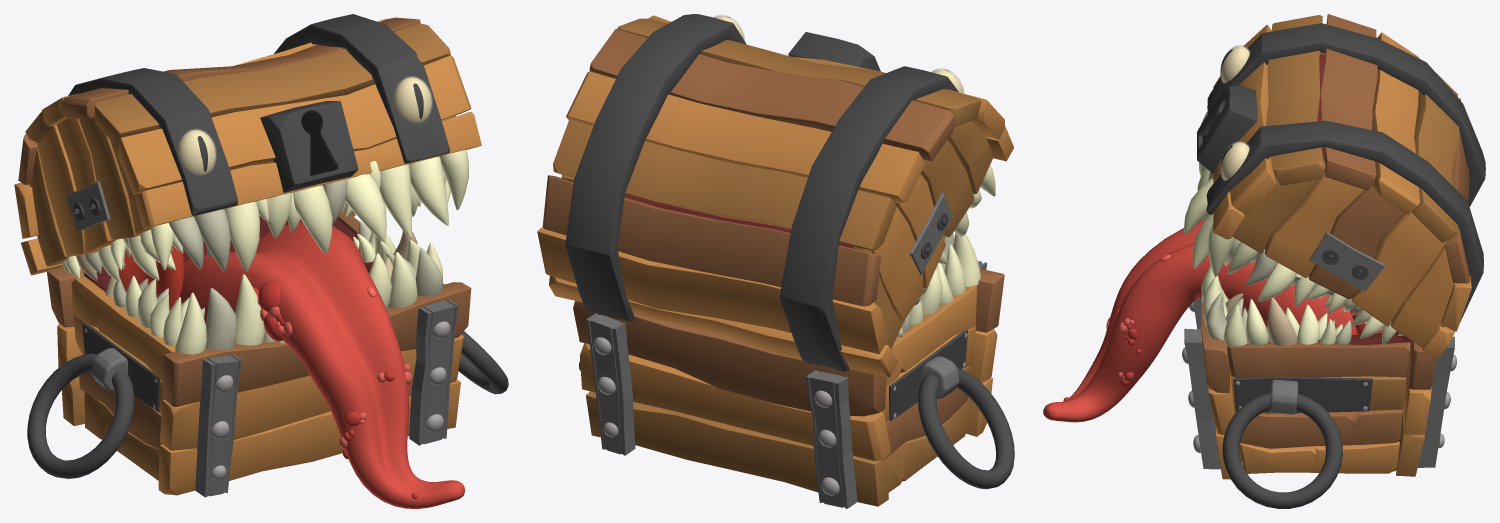
File: bauP02.glb
The picture shows the model from 3 angles, left to right: view 1: azimuth 30°, elevation 25°; view 2: azimuth 150°, elevation 25°; view 3: azimuth 270°, elevation 25°; orthographic projection. The views are drawn at different scales.
Visible parts, largest first — view 1: Cube.028, BezierCurve, Cube.133, Cube.023, Cube.008, Cube.040, Cube.004, Torus.001, Cube.055, Cube.046, Cube.003, Cube (+11 smaller); view 2: Cube.028, Cube.008, Cube.023, Cube.040, Cube.004, Torus.001, Cube.006, Cube.002, Cube.133, Cube.047, Cube.046, Cube.005 (+3 smaller); view 3: Cube.028, Cube.008, BezierCurve, Cube.023, Cube.133, Cube.040, Cube.004, Cube.034, Torus.001, Cube.046, Cube.047, Cube.003 (+9 smaller).
Boxes of the visible parts, x1=… form: Cube.028: x1=14, y1=18, x2=481, y2=495; BezierCurve: x1=179, y1=222, x2=464, y2=508; Cube.133: x1=61, y1=150, x2=468, y2=354; Cube.023: x1=25, y1=23, x2=456, y2=480; Cube.008: x1=18, y1=17, x2=471, y2=448; Cube.040: x1=274, y1=14, x2=449, y2=163; Cube.004: x1=68, y1=68, x2=237, y2=215; Torus.001: x1=27, y1=331, x2=508, y2=478; Cube.055: x1=84, y1=179, x2=443, y2=349; Cube.046: x1=260, y1=101, x2=358, y2=192; Cube.003: x1=409, y1=299, x2=458, y2=445; Cube: x1=195, y1=354, x2=242, y2=497; Cube.028: x1=537, y1=15, x2=1013, y2=460; Cube.008: x1=542, y1=28, x2=1004, y2=460; Cube.023: x1=553, y1=18, x2=993, y2=506; Cube.040: x1=565, y1=14, x2=746, y2=321; Cube.004: x1=779, y1=66, x2=958, y2=372; Torus.001: x1=579, y1=361, x2=1014, y2=489; Cube.006: x1=806, y1=370, x2=857, y2=508; Cube.002: x1=586, y1=313, x2=635, y2=455; Cube.133: x1=897, y1=165, x2=995, y2=337; Cube.047: x1=889, y1=329, x2=967, y2=420; Cube.046: x1=788, y1=32, x2=880, y2=71; Cube.005: x1=594, y1=337, x2=839, y2=495; Cube.028: x1=1208, y1=24, x2=1471, y2=479; Cube.008: x1=1201, y1=14, x2=1469, y2=448; BezierCurve: x1=1043, y1=220, x2=1357, y2=422; Cube.023: x1=1232, y1=15, x2=1459, y2=476; Cube.133: x1=1184, y1=162, x2=1396, y2=346; Cube.040: x1=1206, y1=120, x2=1483, y2=331; Cube.004: x1=1207, y1=23, x2=1485, y2=206; Cube.034: x1=1227, y1=342, x2=1410, y2=378; Torus.001: x1=1222, y1=393, x2=1342, y2=508; Cube.046: x1=1197, y1=85, x2=1257, y2=173; Cube.047: x1=1233, y1=376, x2=1372, y2=413; Cube.003: x1=1184, y1=328, x2=1220, y2=469.
Size of the model in its own units: 0.5736 by 0.4716 by 0.5599.
